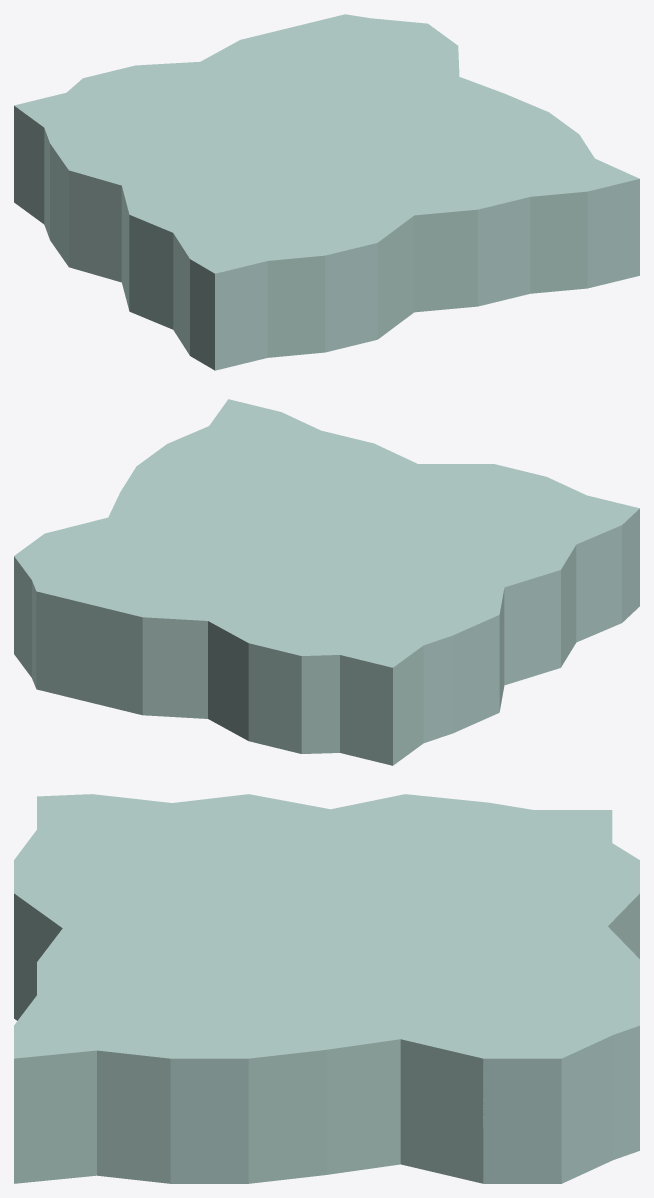
The model's file is iceplatform.fbx.
The picture shows the model from 3 angles, top to bottom: view 1: azimuth 30°, elevation 25°; view 2: azimuth 150°, elevation 25°; view 3: azimuth 270°, elevation 25°; orthographic projection. The views are drawn at different scales.
Parts seen in each view (by area): view 1: Base; view 2: Base; view 3: Base.
Boxes of the visible parts, left/top/right/bottom form: Base: left=14, top=14, right=639, bottom=370; Base: left=14, top=399, right=639, bottom=765; Base: left=14, top=794, right=639, bottom=1183.
Size of the model in its own units: 1000 by 221 by 1000.
